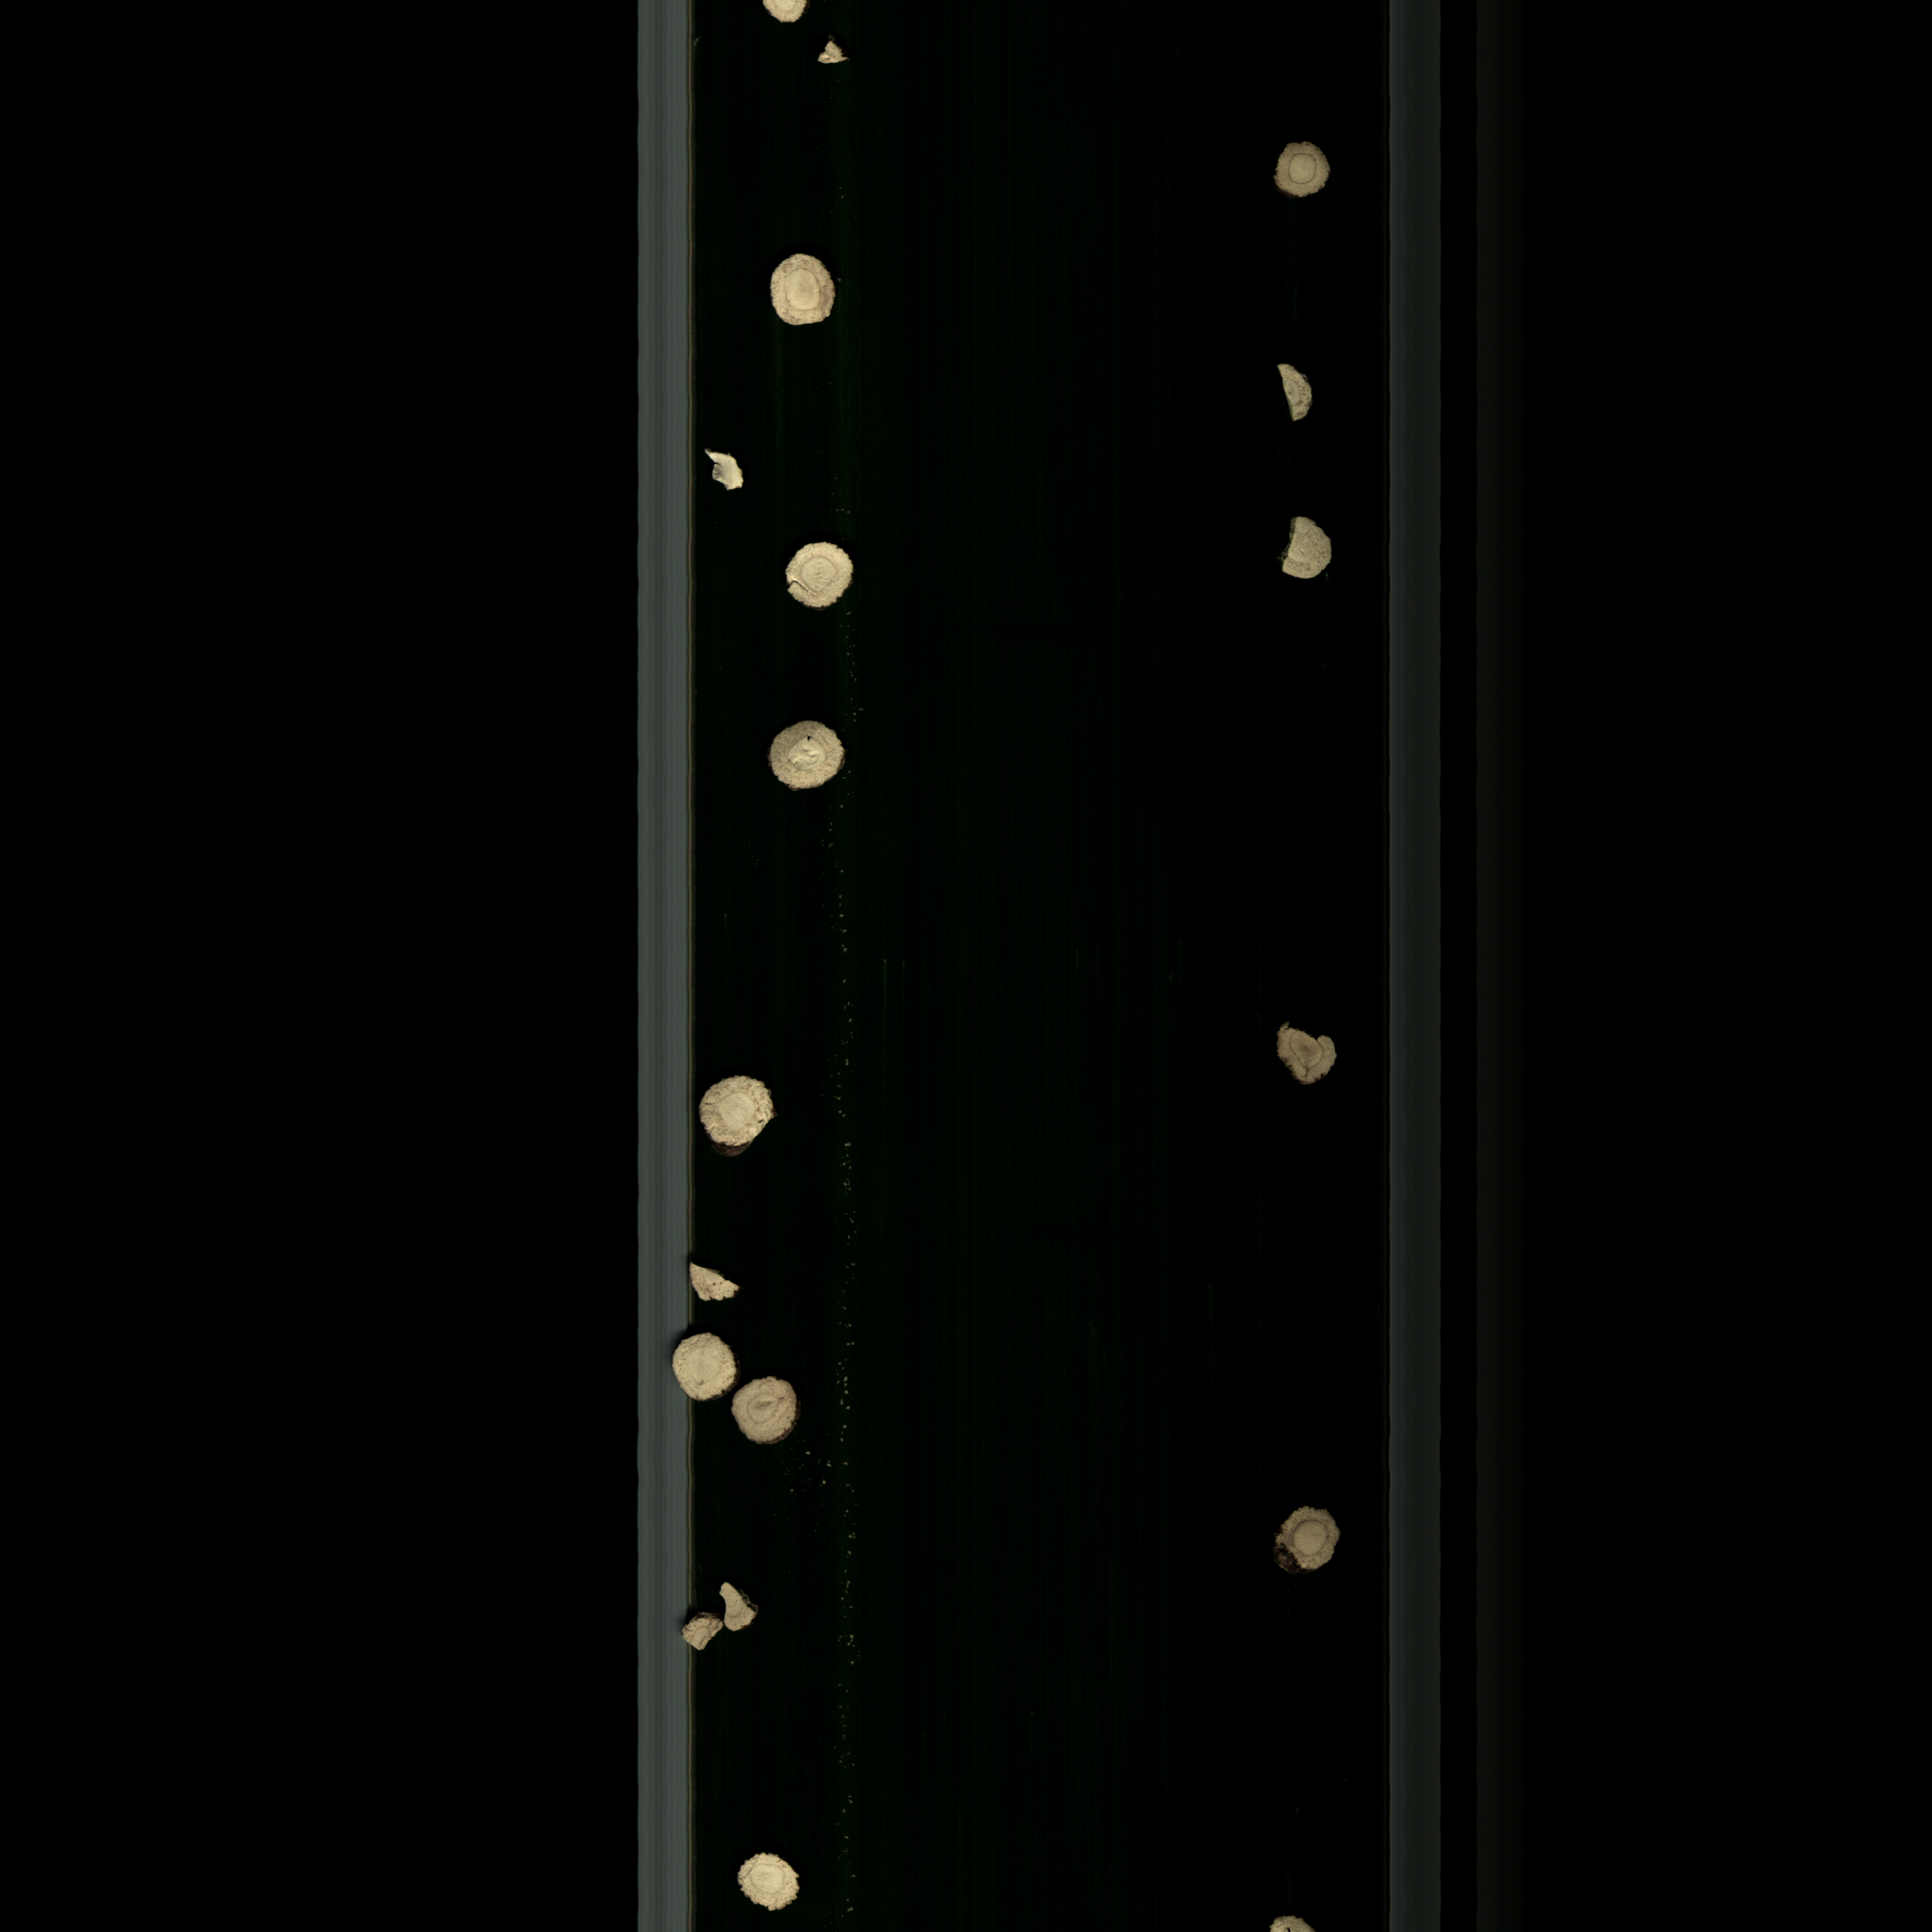debris: (1272, 513, 1343, 589)
dreg: (1265, 354, 1320, 435), (669, 1608, 738, 1658), (713, 1576, 766, 1638), (694, 446, 752, 501), (685, 1256, 747, 1307), (809, 35, 856, 74)
hole: (770, 527, 860, 616), (763, 715, 855, 798)
moldy: (1267, 1497, 1345, 1592), (729, 1380, 810, 1456), (1270, 1019, 1348, 1093), (1267, 138, 1346, 203)
